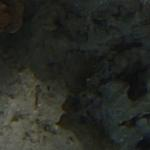dead: (11, 61, 146, 147)
